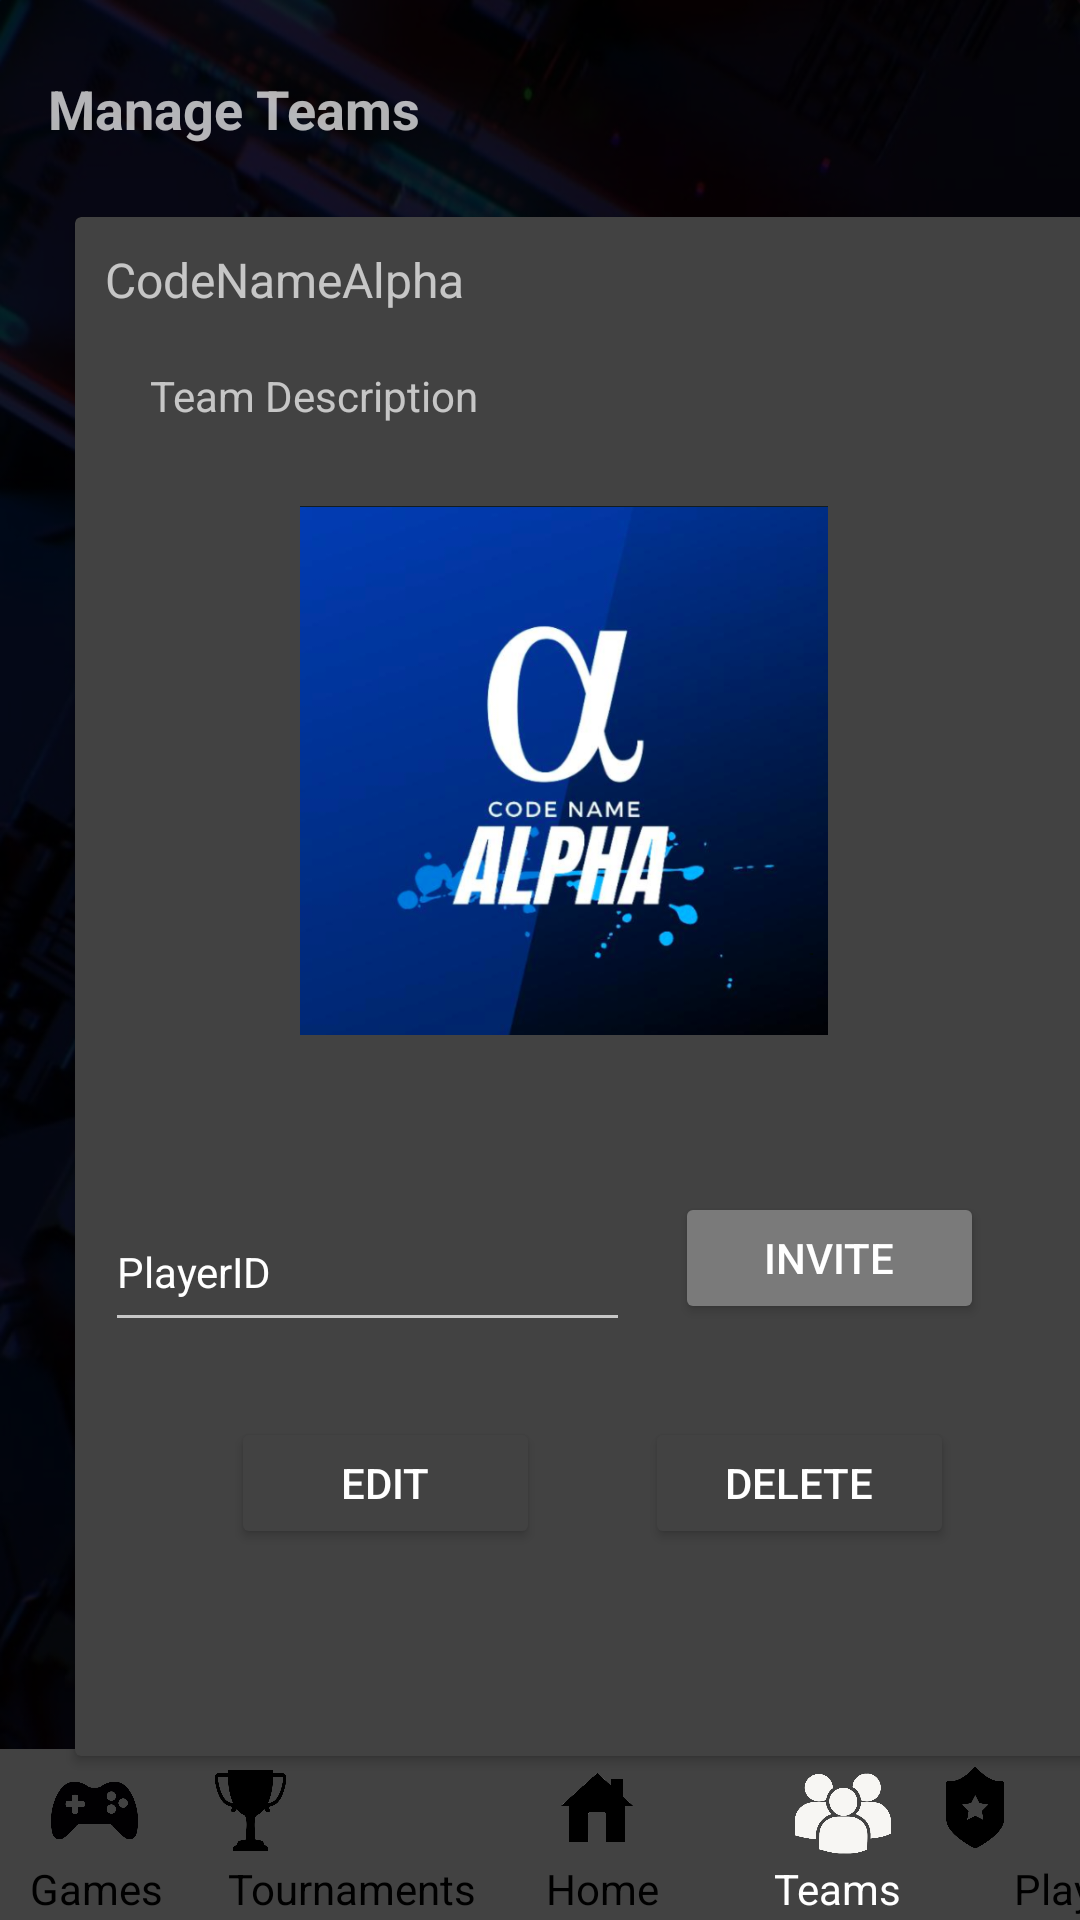

Screen size 1080px×1920px. Icon name, then its box in pixels as (x1, y1, x2, y2):
console: (51, 1782, 138, 1839)
cup: (215, 1770, 286, 1851)
rank: (946, 1767, 1004, 1848)
